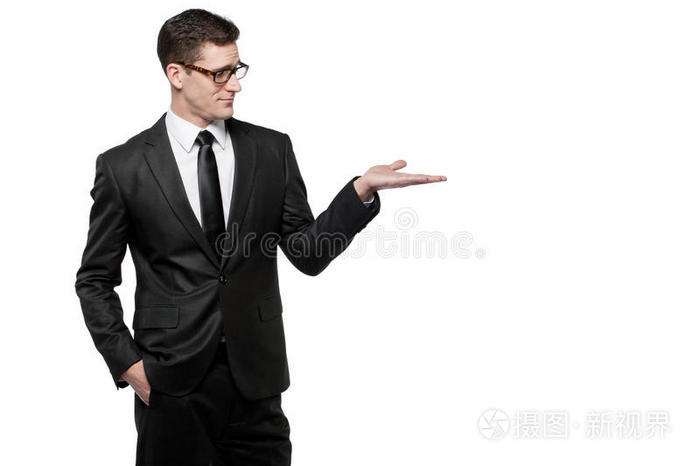no-phone: (355, 156, 450, 198)
